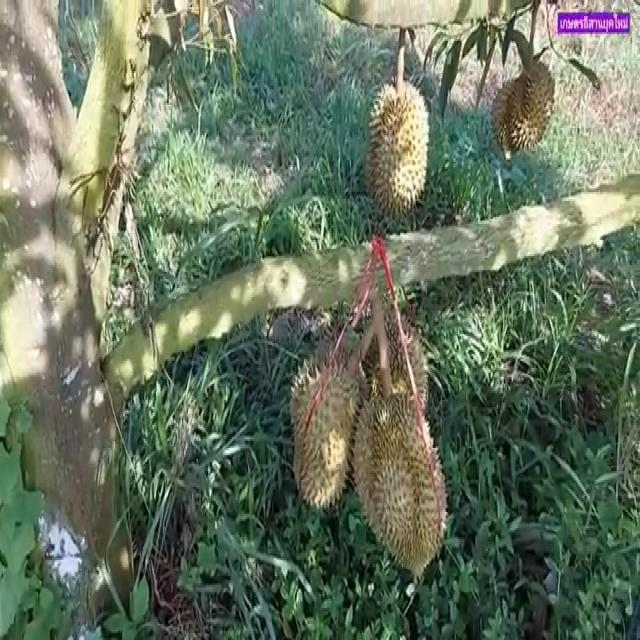durian: (348, 378, 448, 587), (279, 347, 368, 520), (354, 301, 435, 444), (364, 75, 433, 225), (503, 58, 558, 149)
